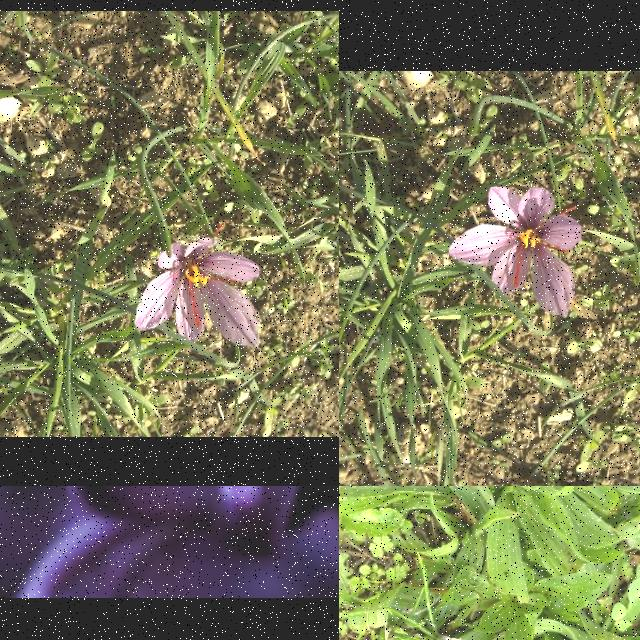flower: (449, 187, 583, 316), (135, 224, 261, 348)
